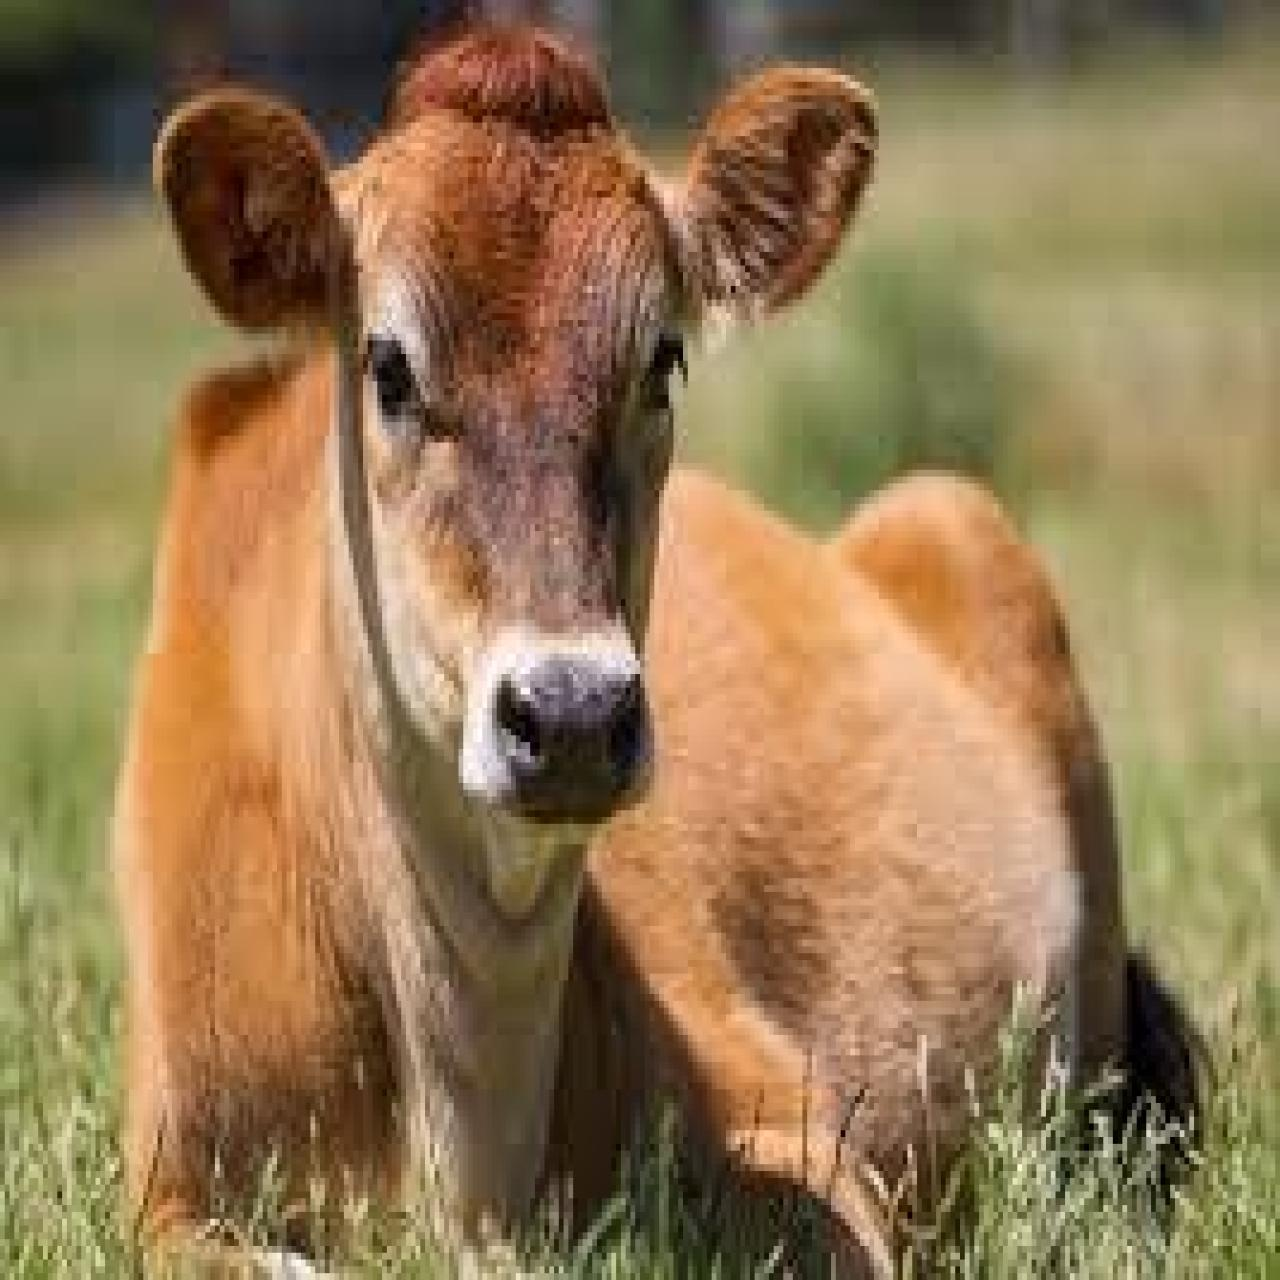cow: (113, 27, 1125, 1280)
